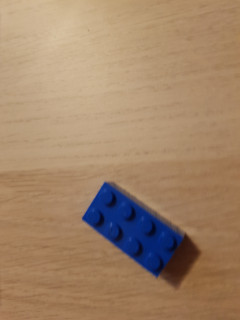2x4 blue: (81, 182, 185, 278)
